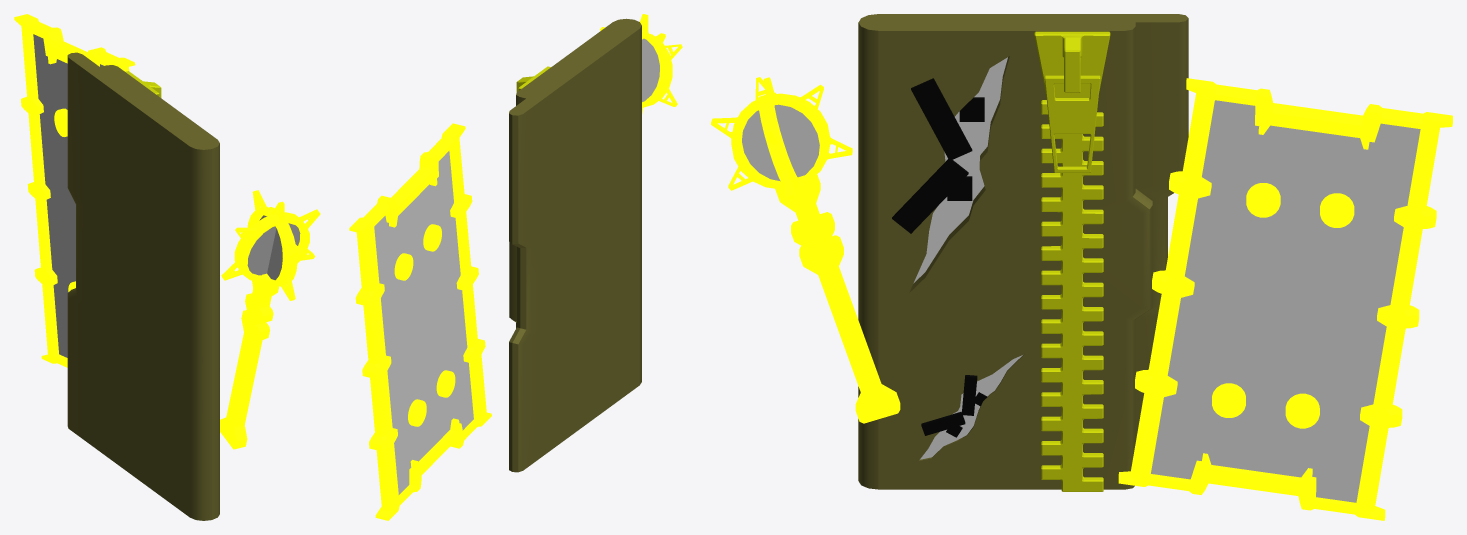
The model's file is Lvl 3 Zip.fbx.
3 renders of one model, left to right at view 1: azimuth 30°, elevation 25°; view 2: azimuth 150°, elevation 25°; view 3: azimuth 270°, elevation 25°, orthographic. The views are drawn at different scales.
Parts seen in each view (by area): view 1: Zip_Troop_; view 2: Zip_Troop_; view 3: Zip_Troop_.
Part boxes in pixels (bbox=[...]): Zip_Troop_: bbox=[14, 14, 320, 520]; Zip_Troop_: bbox=[349, 14, 682, 520]; Zip_Troop_: bbox=[711, 14, 1452, 520].
Size of the model in its own units: 0.4761 by 1.87 by 2.7.
